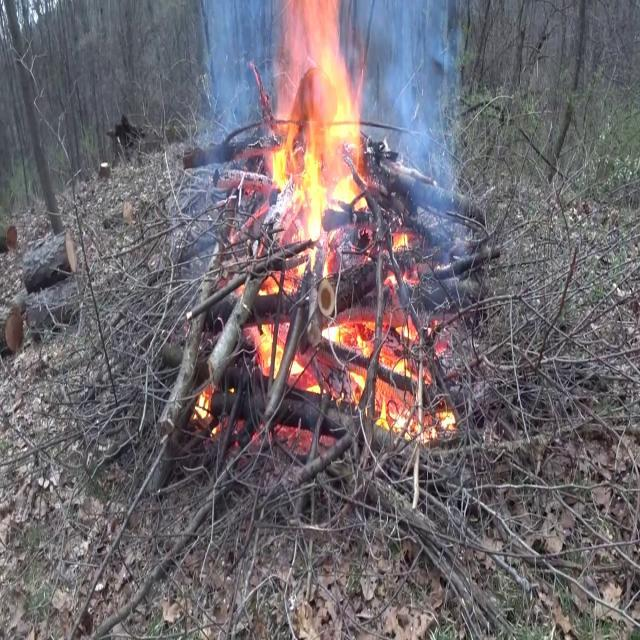Fire: (240, 0, 450, 439), (257, 1, 375, 270)
Smoke: (367, 1, 465, 252)
